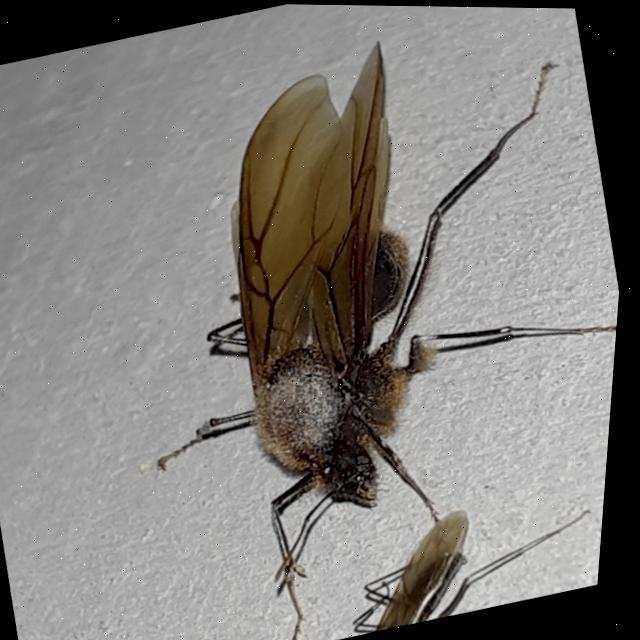Alive-Male-Alate: (66, 1, 640, 640)
